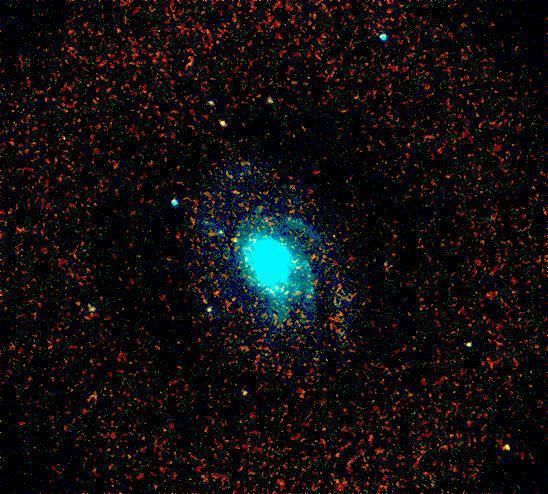star: (221, 226, 251, 256)
